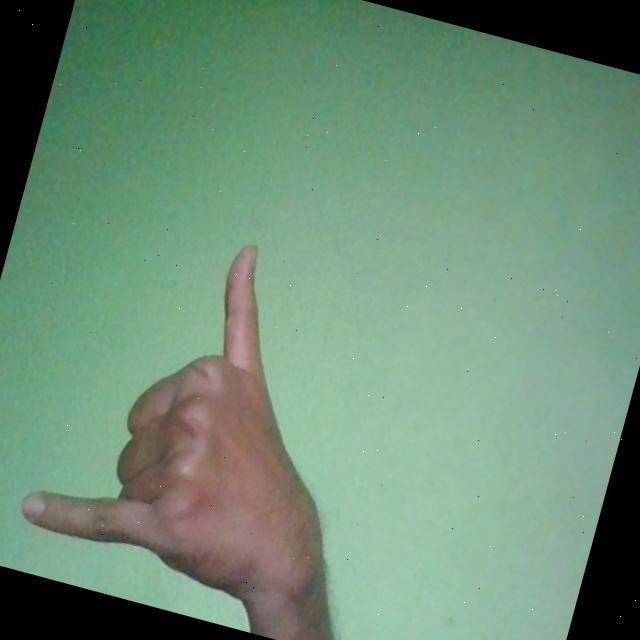Call Me: (12, 202, 404, 620)
